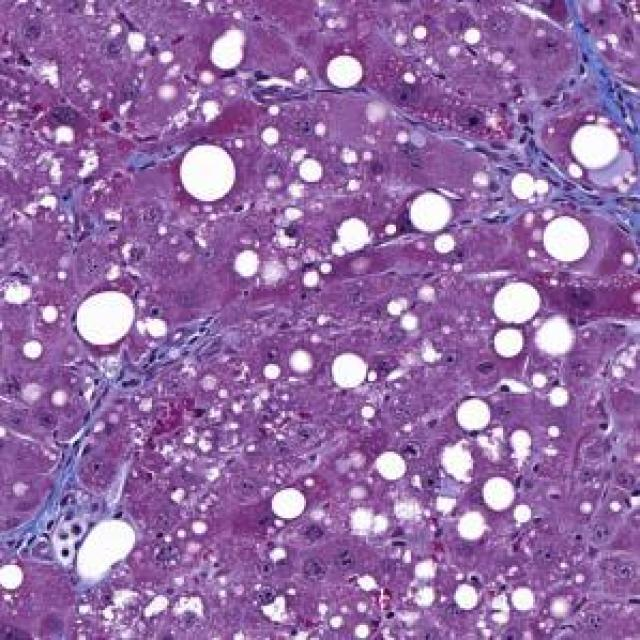fibrosis: (509, 75, 640, 199)
